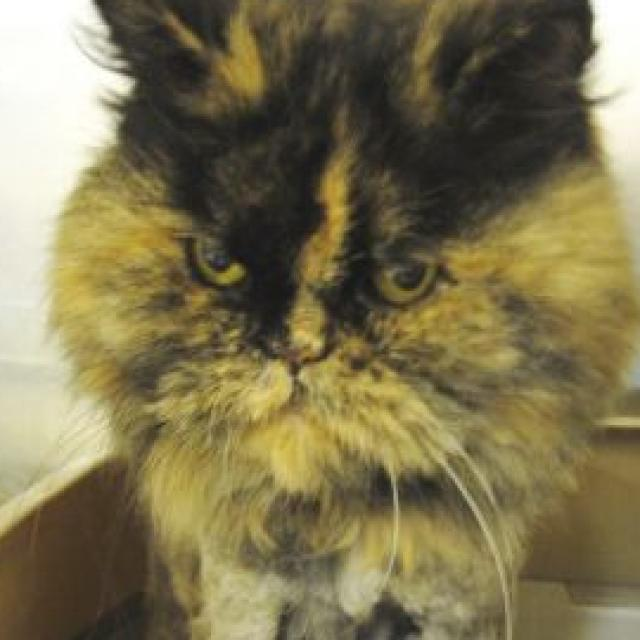Persian: (40, 0, 640, 640)
